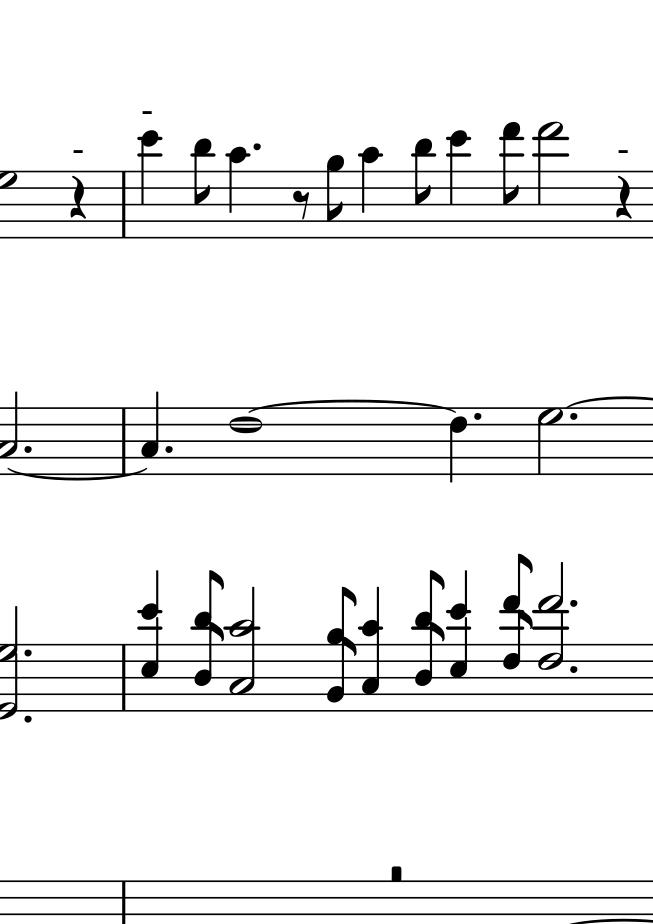1_6: (228, 406, 264, 478)
2_13: (534, 121, 566, 240)
2_3_10: (227, 586, 260, 713)
2_6_13: (535, 561, 569, 714)
2_7: (536, 407, 564, 477)
4_10: (224, 145, 250, 239), (358, 146, 382, 240)
4_12: (447, 128, 470, 241), (138, 128, 159, 238)
4_3: (140, 389, 161, 477)
4_3_10: (360, 586, 383, 715)
4_5_12: (140, 570, 163, 712), (447, 571, 470, 713)
4_6: (449, 406, 469, 484)
8_11: (189, 138, 217, 240), (411, 138, 436, 240)
8_13: (499, 121, 523, 240)
8_2_9: (327, 587, 359, 714)
8_4_11: (192, 569, 225, 713), (413, 571, 446, 715)
8_6_13: (501, 552, 533, 712)
8_9: (323, 154, 345, 239)
Rests4: (65, 173, 87, 220), (613, 173, 635, 220)
Rests8: (292, 190, 311, 223)
Single_barline: (115, 407, 132, 473), (116, 171, 131, 238), (117, 644, 131, 711), (116, 881, 131, 924)
Slur: (249, 398, 457, 413)
dot: (160, 442, 176, 457), (21, 441, 35, 458), (470, 408, 484, 425), (566, 411, 582, 425), (20, 646, 34, 660), (567, 662, 581, 676), (249, 142, 263, 155), (568, 597, 580, 612), (20, 711, 33, 724)
